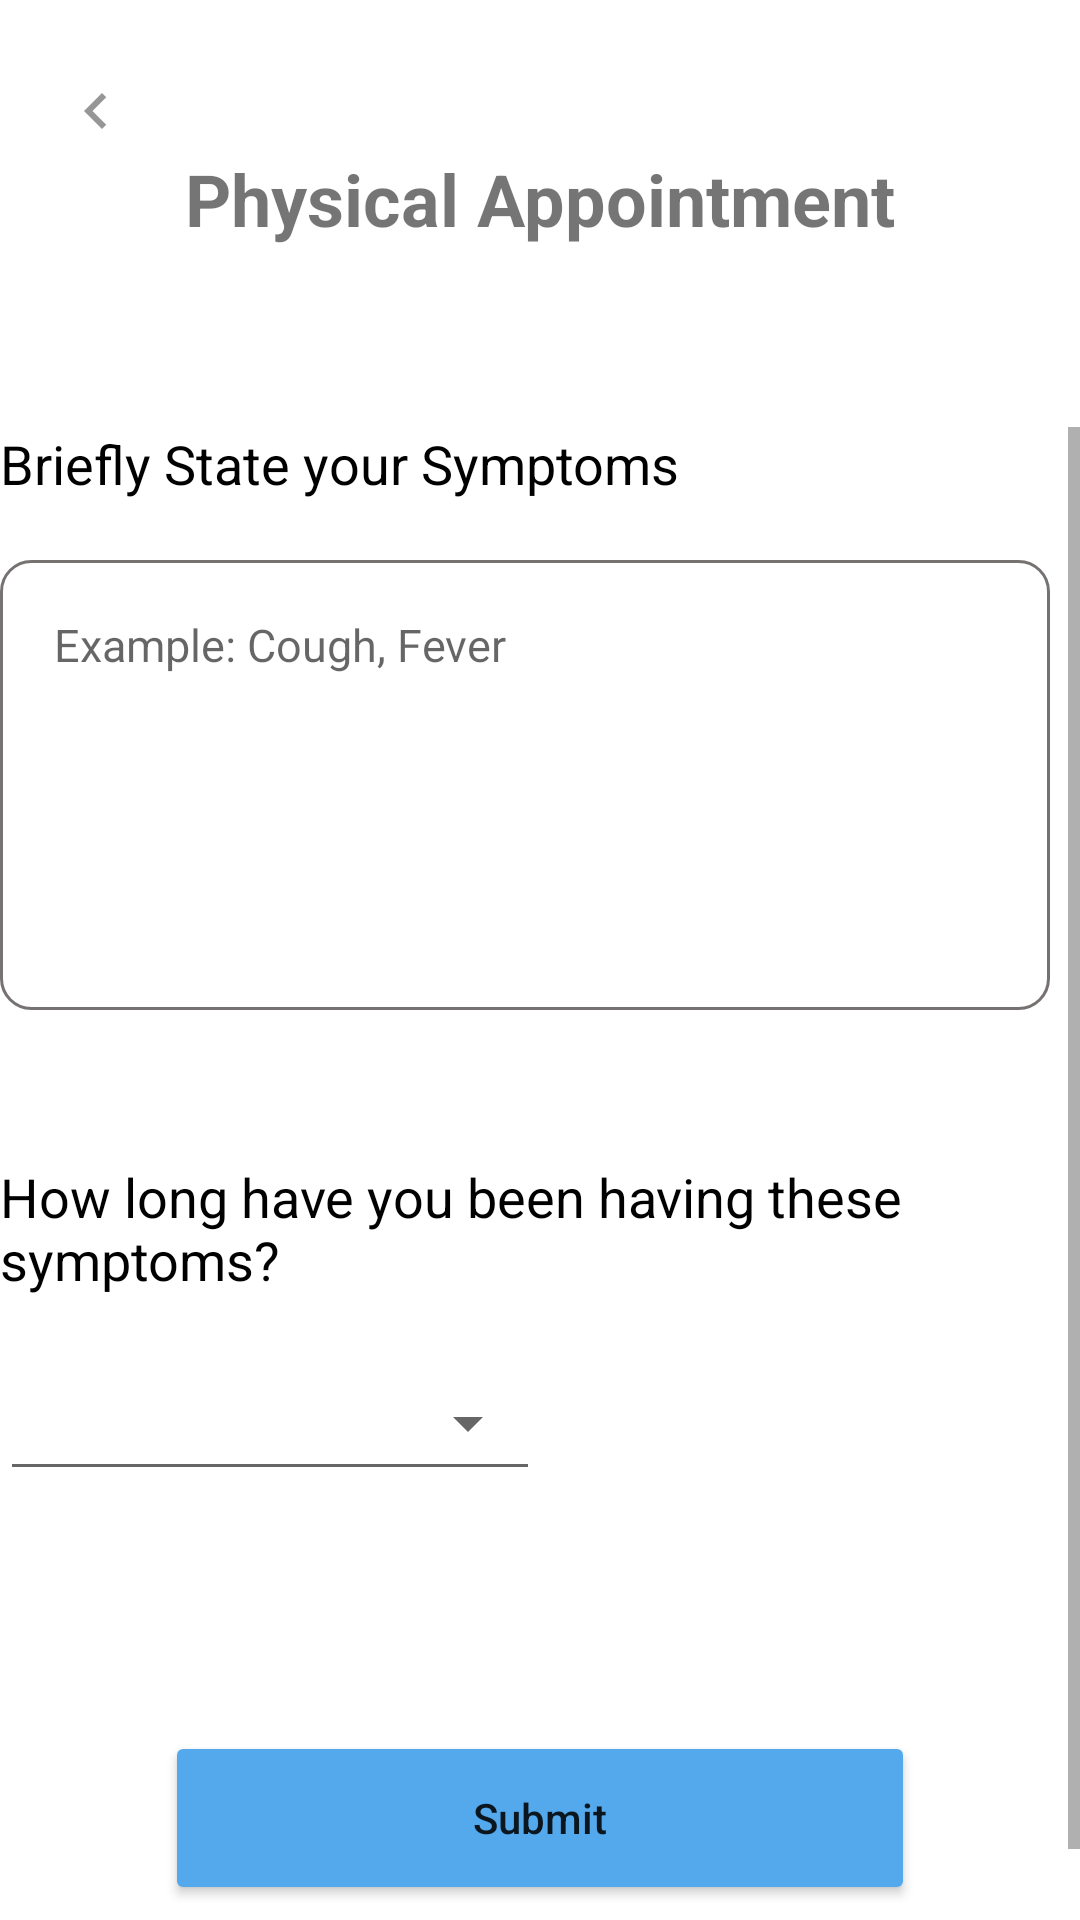

Where to tap for icons on this 1080×1920 app screen, as (x=x, y=y):
back: (x=95, y=111)
